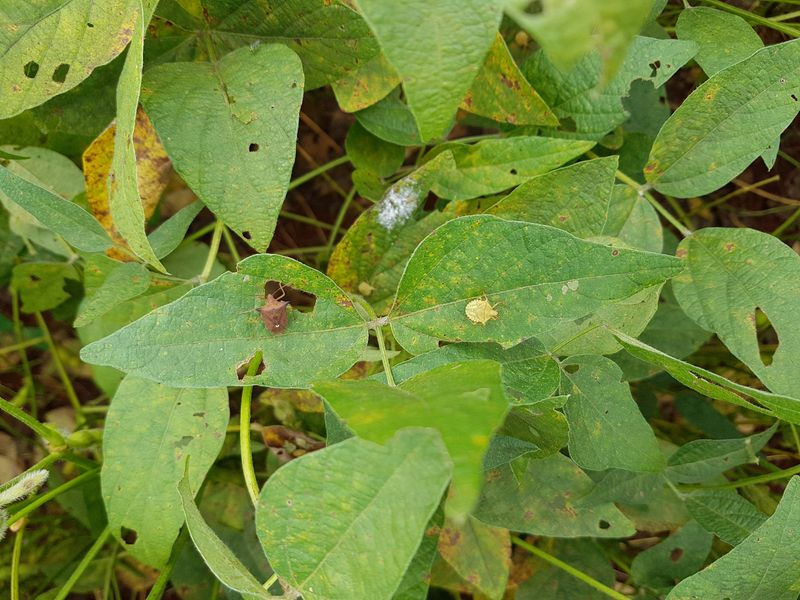Euschistus_heros_adulto: (243, 277, 306, 345)
Euschistus_heros_ninfa: (456, 288, 509, 337)
